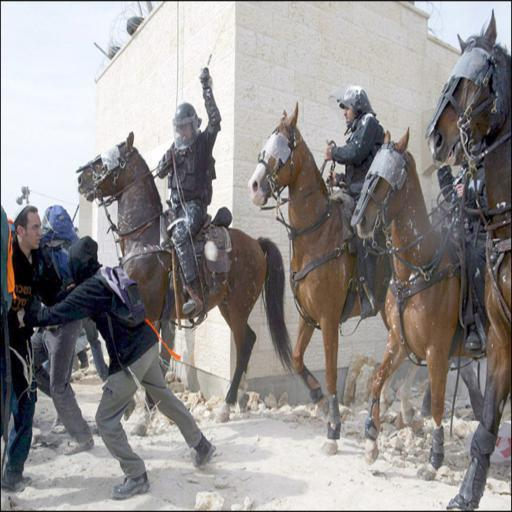horse: (246, 98, 484, 456), (76, 130, 293, 437), (357, 128, 491, 480), (426, 6, 512, 511)
